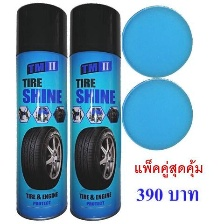aerosol_cans: (10, 0, 70, 222), (67, 0, 125, 222)
